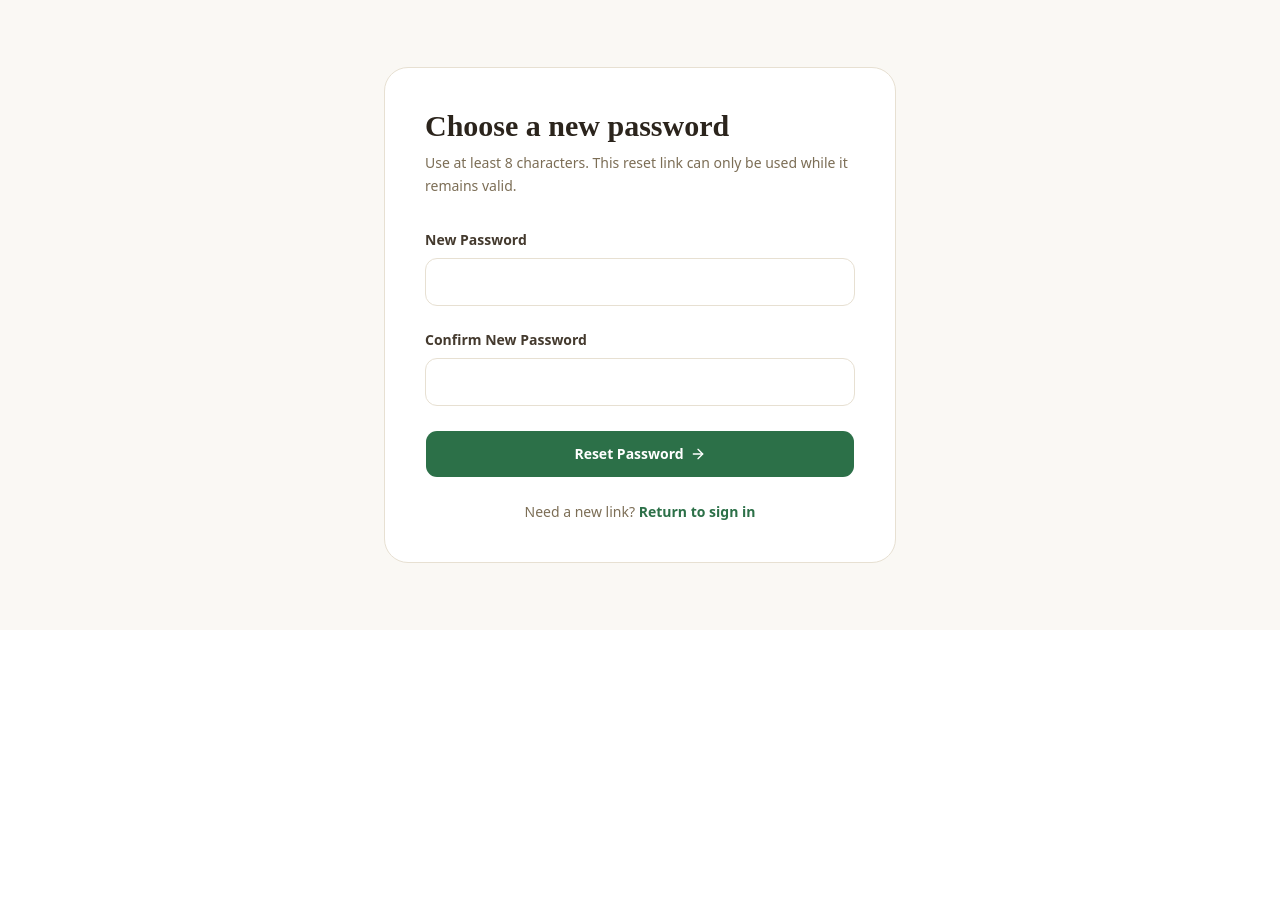
Scenario: ResetPasswordPage › submits the route token and provides a return-to-login action
Type "new-secret" into the password field labelled "New Password". click: (640, 282)
box: top-left (425, 258), bottom-right (855, 306)
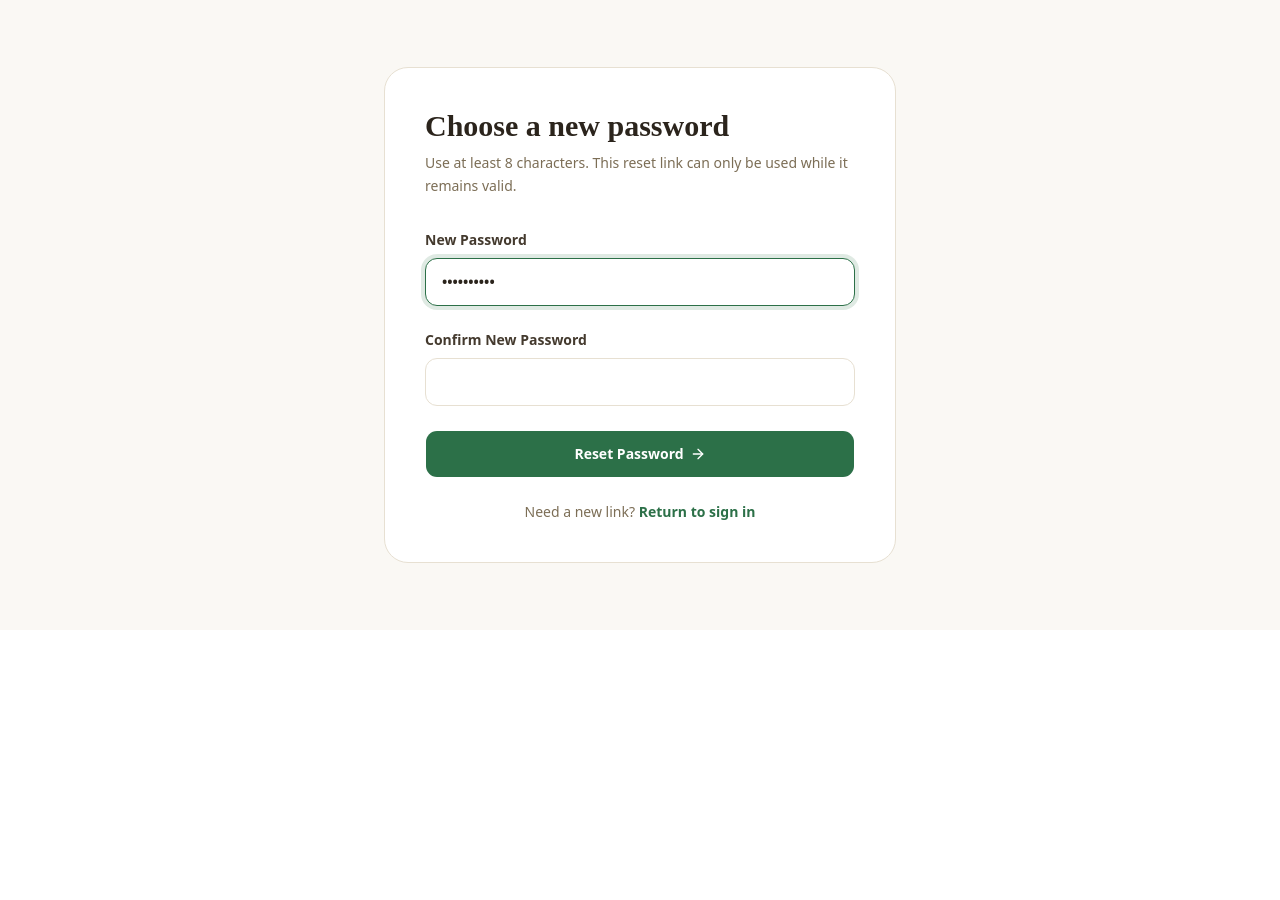
Type "new-secret" into the password field labelled "Confirm New Password". click: (640, 382)
box: top-left (425, 358), bottom-right (855, 406)
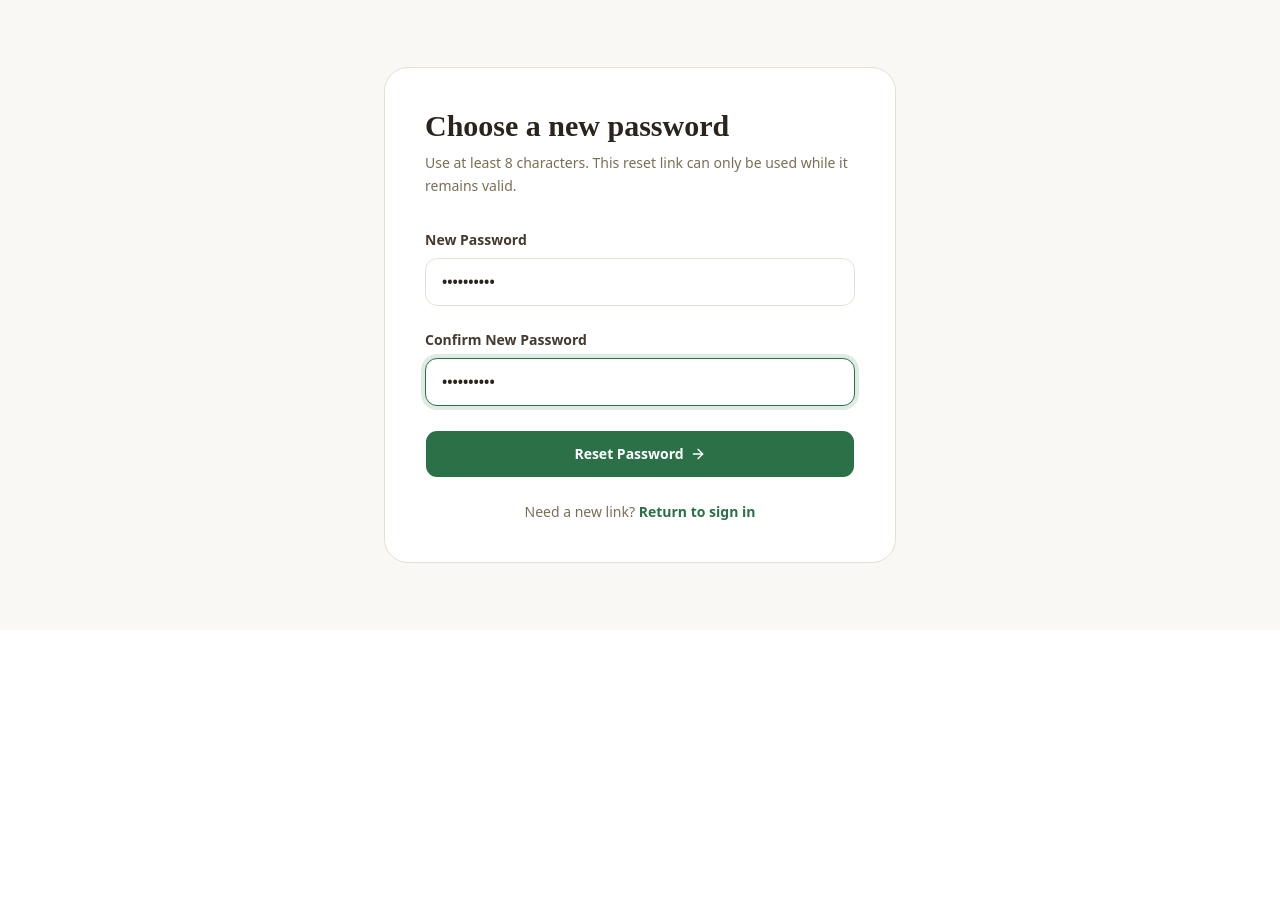
Click the button "Reset Password". click: (640, 454)
box: top-left (425, 430), bottom-right (855, 478)
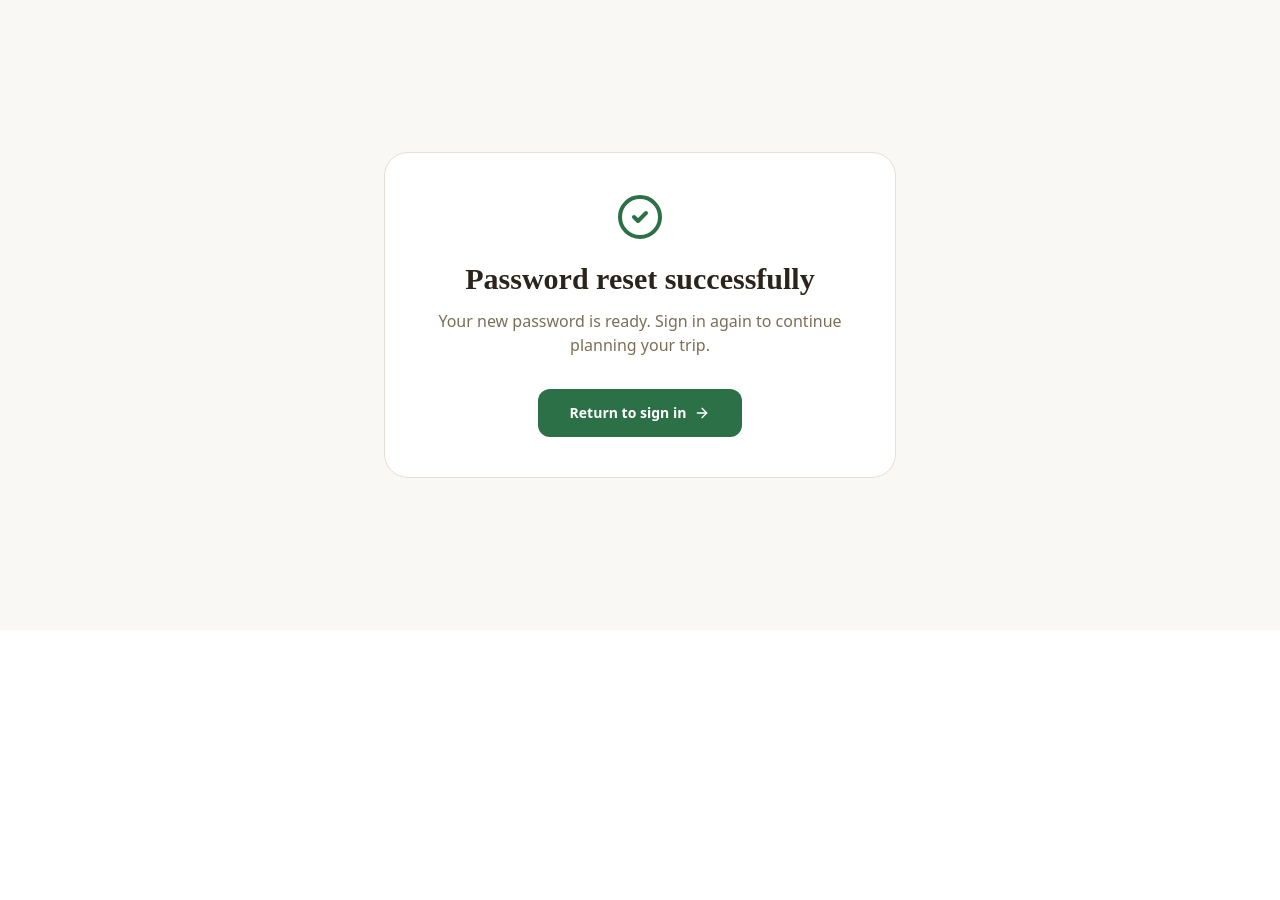
Check: the heading "Password reset successfully" is shown, box top-left (465, 262), bottom-right (815, 295)
